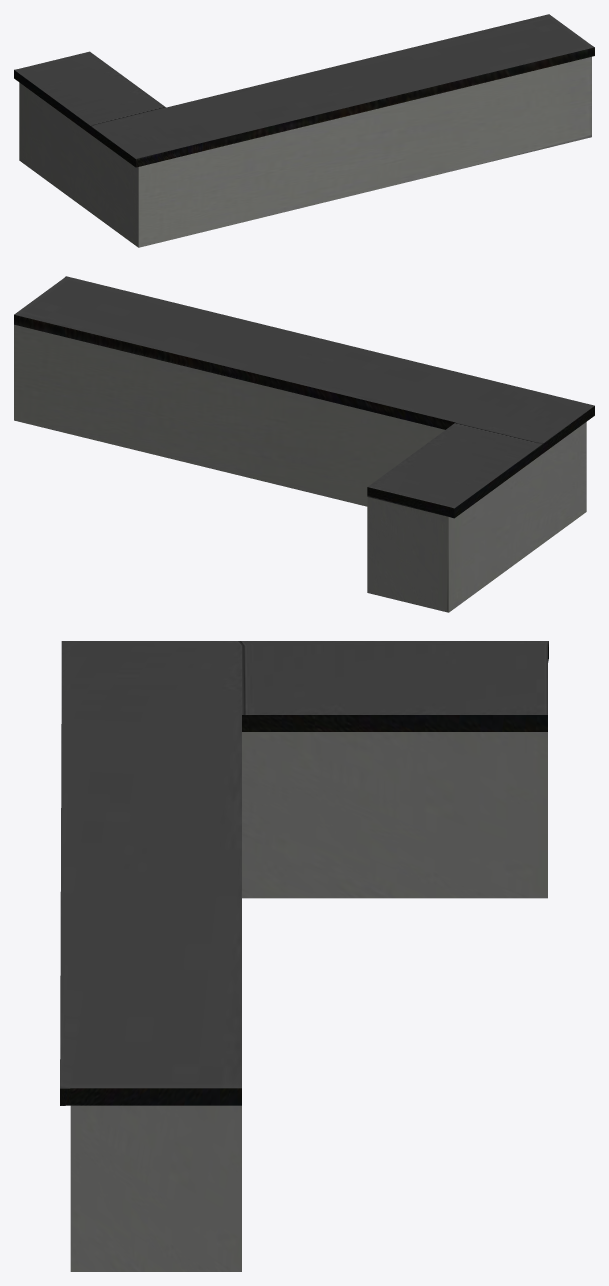
Rendered from Balcao.fbx.
3 renders of one model, top to bottom at view 1: azimuth 30°, elevation 25°; view 2: azimuth 150°, elevation 25°; view 3: azimuth 270°, elevation 25°, orthographic. The views are drawn at different scales.
Parts seen in each view (by area): view 1: Balcao; view 2: Balcao; view 3: Balcao.
Part boxes in pixels (x1,y1,x2,y2): Balcao: [14, 14, 594, 247]; Balcao: [14, 276, 594, 612]; Balcao: [60, 641, 548, 1271].
Size of the model in its own units: 391 by 74.78 by 181.
